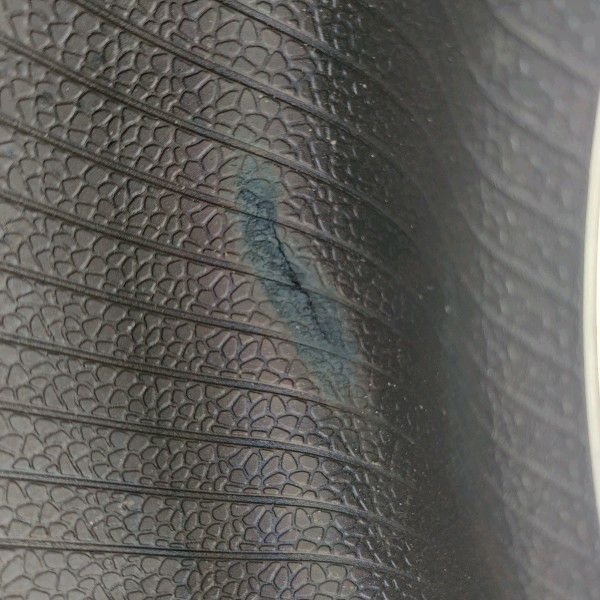CBU: (240, 158, 371, 405)
